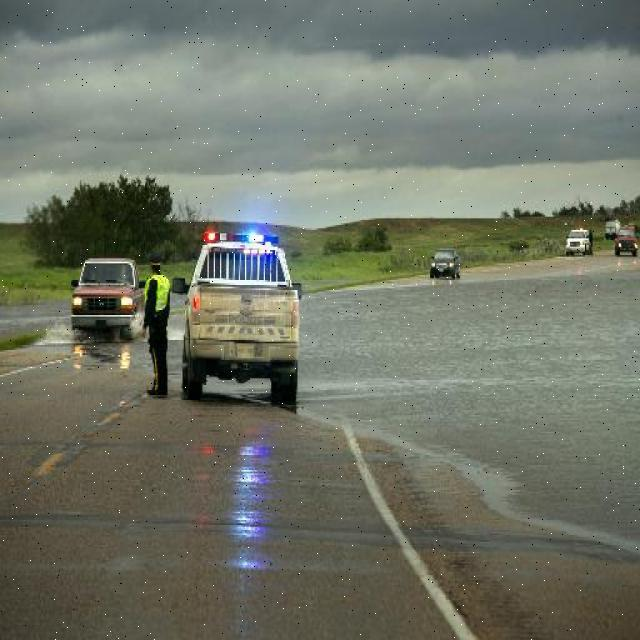rescuer: (130, 254, 182, 409)
